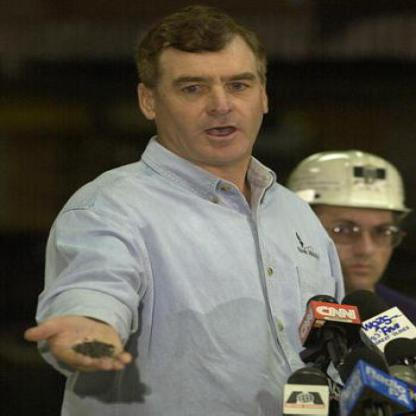face: (153, 17, 269, 167), (307, 170, 405, 294)
